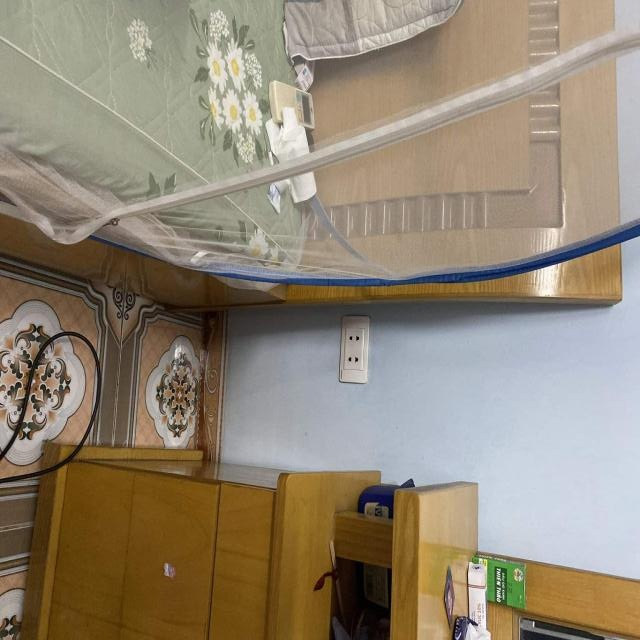outlet: (339, 314, 370, 384)
